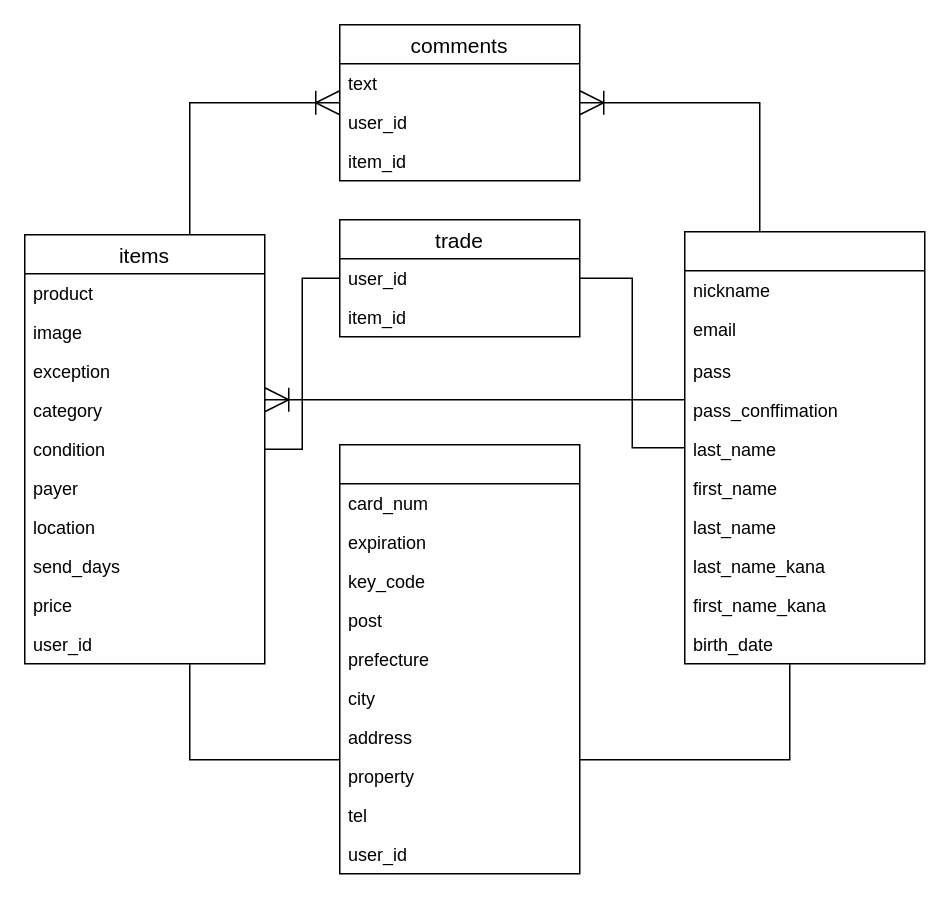
The diagram is 950 pixels wide and 899 high, and some of its shapes have lost their labels. Here are the shapes that lost their labels. From the top down, the box of each, then its label:
(683, 230, 925, 664): users
(338, 443, 580, 874): order
